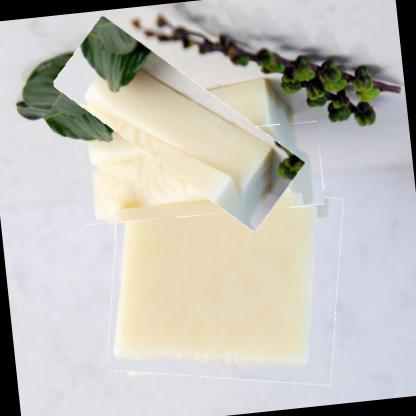soap: (94, 170, 354, 398), (47, 31, 310, 214), (75, 118, 324, 228)
